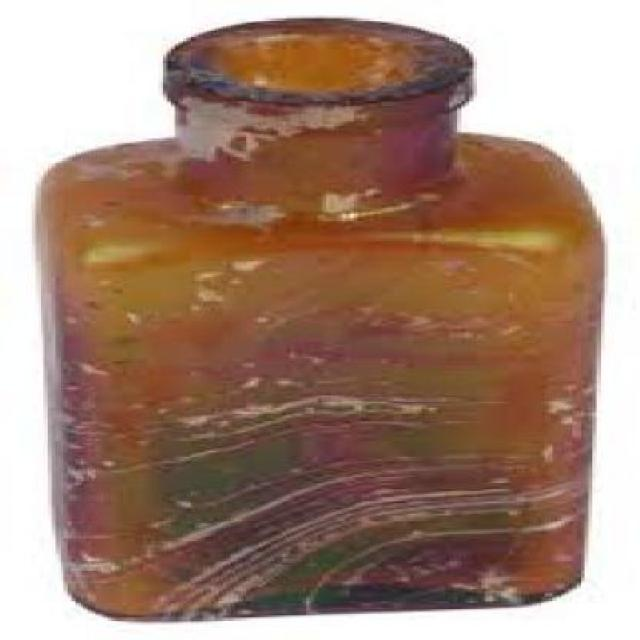GLASS: (32, 14, 600, 621)
